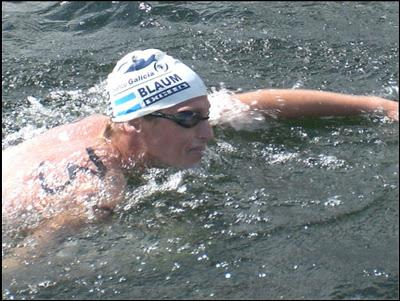human: (0, 47, 400, 254)
